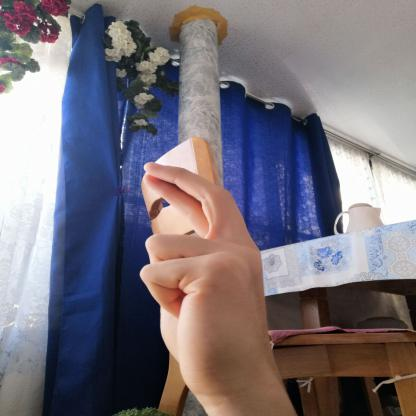ZAY: (125, 154, 296, 410)
